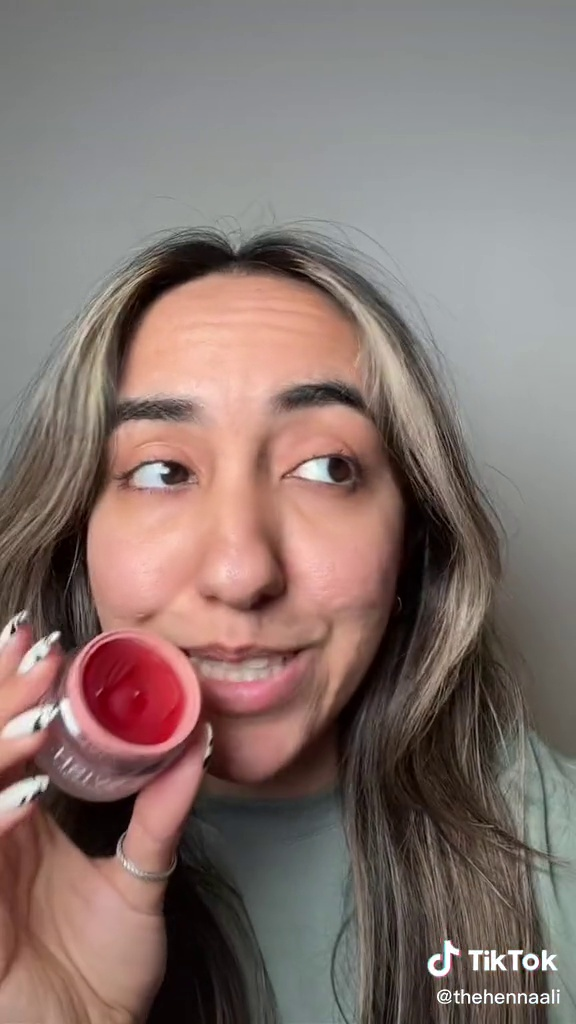train' :'yolo_data/train/images',: (33, 625, 212, 812)
